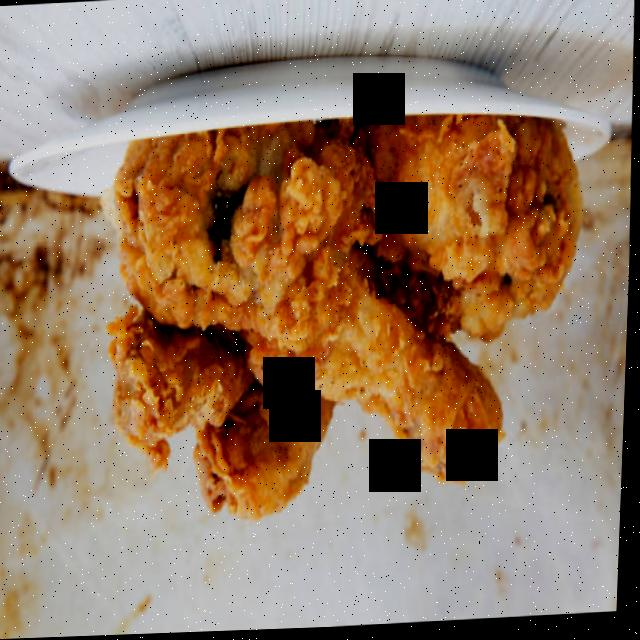Frango: (99, 113, 595, 533)
